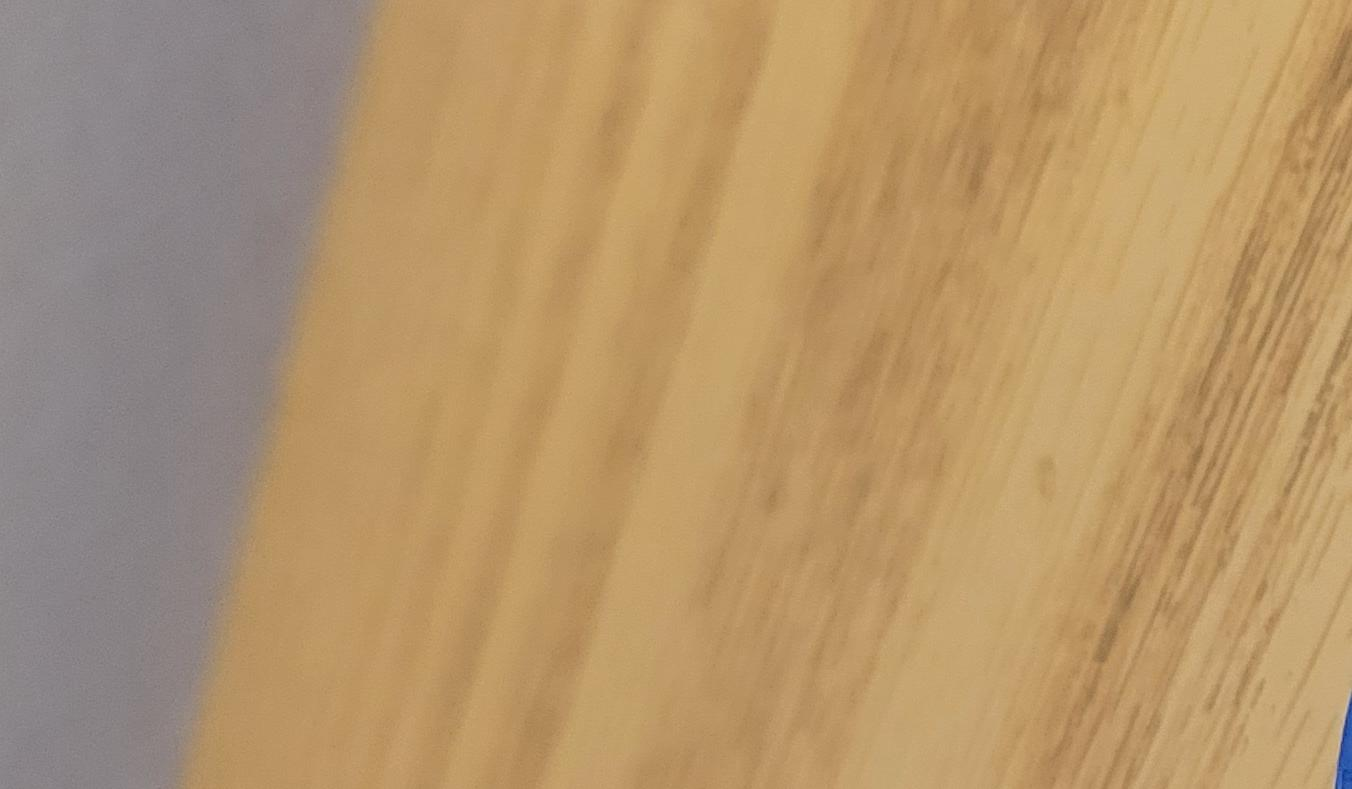Chip: (1, 426, 905, 789)
